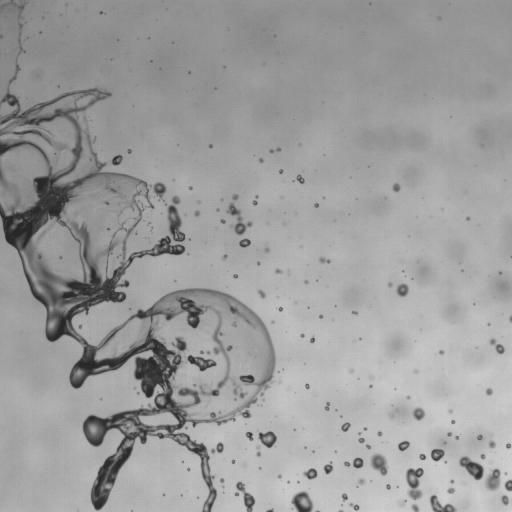droplet: (227, 203, 252, 235), (0, 0, 25, 19), (429, 494, 456, 511), (291, 491, 313, 511), (370, 453, 388, 475), (258, 431, 276, 447), (344, 457, 363, 468), (430, 448, 444, 461), (396, 283, 409, 296), (412, 407, 425, 420), (303, 468, 317, 479), (211, 442, 223, 453), (323, 462, 333, 474), (111, 155, 122, 165), (398, 441, 409, 451), (239, 238, 250, 247), (504, 479, 511, 491), (341, 422, 350, 431), (296, 174, 304, 183), (350, 502, 359, 510), (501, 495, 508, 505), (319, 257, 330, 263), (392, 183, 400, 191), (245, 432, 253, 440), (258, 290, 265, 298), (488, 440, 495, 448), (411, 504, 419, 511), (341, 493, 347, 501), (486, 388, 492, 395), (419, 454, 426, 460), (358, 478, 364, 485), (447, 487, 454, 493), (399, 500, 406, 506), (324, 402, 329, 410), (358, 437, 364, 443), (232, 194, 238, 199), (310, 336, 314, 343), (194, 211, 199, 216), (264, 247, 269, 252), (222, 255, 227, 260), (377, 431, 382, 436), (477, 434, 482, 439), (506, 443, 511, 448), (366, 444, 371, 449), (480, 454, 485, 459), (18, 23, 22, 29), (275, 269, 281, 273), (438, 350, 444, 354), (220, 219, 225, 223), (388, 282, 392, 287), (349, 368, 353, 373), (386, 484, 390, 489), (127, 149, 131, 153), (259, 158, 263, 162), (314, 203, 318, 207), (233, 274, 237, 278), (278, 307, 282, 311), (78, 324, 82, 328), (300, 333, 304, 337), (305, 384, 309, 388), (447, 432, 451, 436), (352, 311, 357, 314), (220, 478, 223, 483), (208, 144, 212, 147), (270, 149, 274, 152), (279, 169, 282, 173), (188, 186, 192, 189), (91, 194, 95, 197), (319, 315, 323, 318), (182, 374, 186, 377), (448, 409, 452, 412), (278, 474, 281, 478), (277, 148, 280, 151), (466, 217, 469, 220), (304, 280, 307, 283), (451, 420, 454, 423), (455, 436, 458, 439), (232, 460, 235, 463), (450, 480, 453, 483), (0, 34, 2, 38), (407, 395, 409, 399), (74, 213, 77, 215), (257, 262, 260, 264), (369, 385, 372, 387), (364, 427, 366, 430), (487, 323, 489, 325), (370, 377, 372, 379)
ligament: (0, 64, 274, 511), (459, 456, 500, 491), (235, 481, 255, 511), (405, 468, 423, 500), (489, 338, 504, 353), (18, 33, 23, 54), (252, 195, 257, 205), (256, 445, 260, 456), (509, 315, 511, 322), (266, 509, 273, 511), (338, 510, 342, 511)
